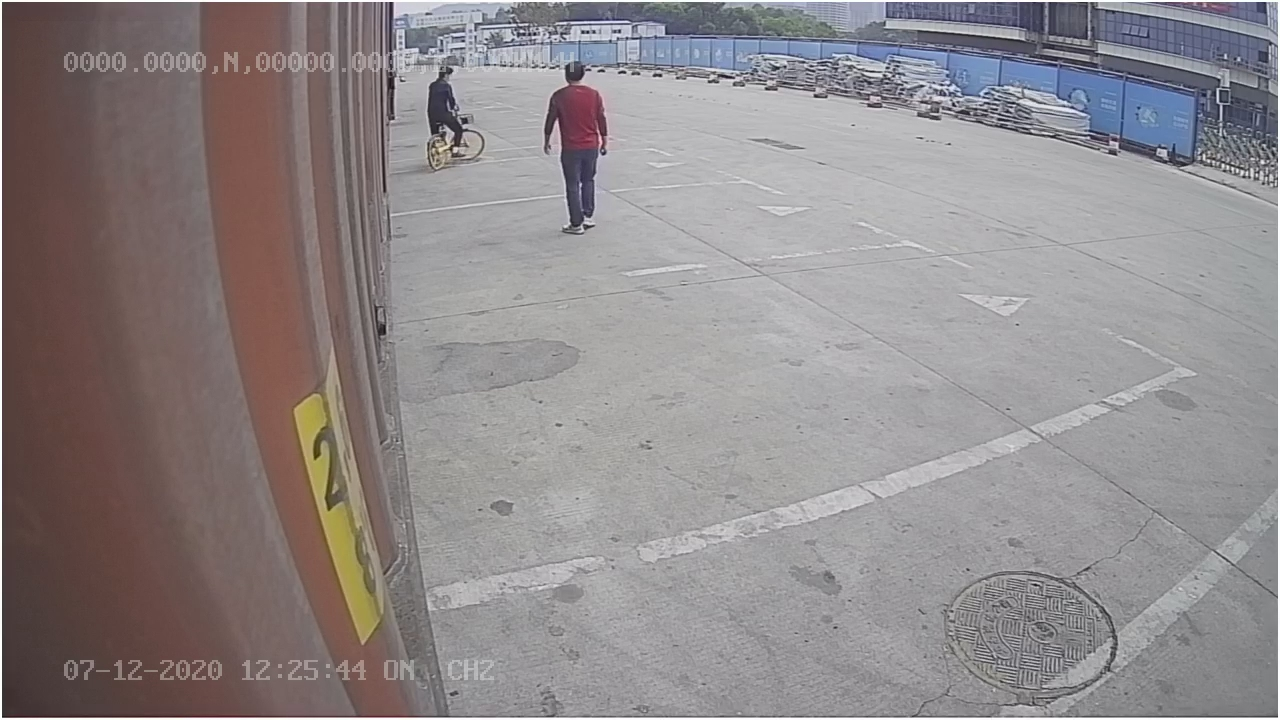person: (538, 60, 612, 239)
